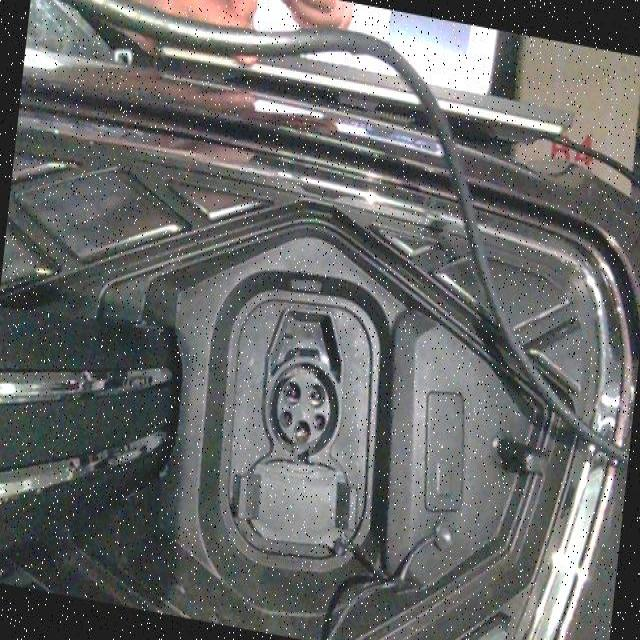Type 1: (257, 350, 346, 462)
